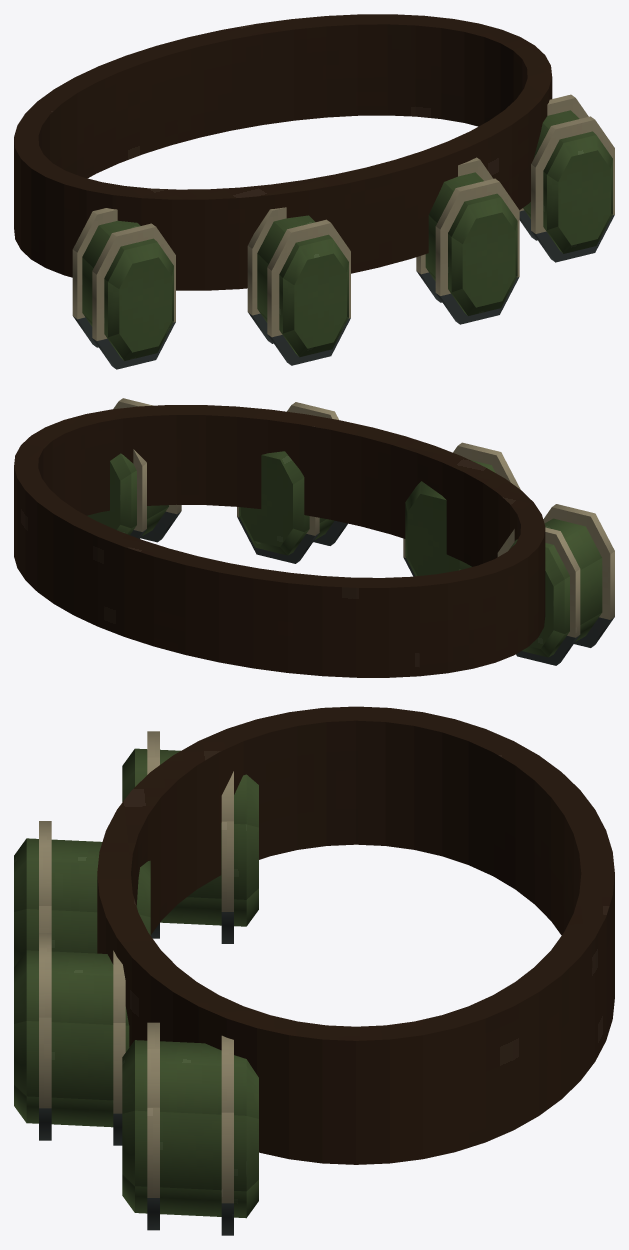
Rendered from item_artifactBelt4.glb.
The picture shows the model from 3 angles, top to bottom: view 1: azimuth 30°, elevation 25°; view 2: azimuth 150°, elevation 25°; view 3: azimuth 270°, elevation 25°; orthographic projection. The views are drawn at different scales.
Visible parts, largest first — view 1: WornLeatherBelt, Donor_station-container-flat_0, Donor_station-container-flat_0.001, Donor_station-container-flat_0.002, Donor_station-container-flat_0.003; view 2: WornLeatherBelt, Donor_station-container-flat_0, Donor_station-container-flat_0.002, Donor_station-container-flat_0.001, Donor_station-container-flat_0.003; view 3: WornLeatherBelt, Donor_station-container-flat_0.003, Donor_station-container-flat_0.002, Donor_station-container-flat_0.001, Donor_station-container-flat_0.
Part boxes in pixels (left/top/right/bottom): WornLeatherBelt: left=14, top=14, right=552, bottom=290; Donor_station-container-flat_0: left=72, top=208, right=175, bottom=369; Donor_station-container-flat_0.001: left=247, top=207, right=350, bottom=365; Donor_station-container-flat_0.002: left=416, top=157, right=519, bottom=324; Donor_station-container-flat_0.003: left=519, top=94, right=614, bottom=262; WornLeatherBelt: left=14, top=405, right=545, bottom=677; Donor_station-container-flat_0: left=497, top=504, right=614, bottom=665; Donor_station-container-flat_0.002: left=237, top=402, right=347, bottom=563; Donor_station-container-flat_0.001: left=403, top=442, right=520, bottom=576; Donor_station-container-flat_0.003: left=87, top=398, right=181, bottom=542; WornLeatherBelt: left=97, top=706, right=614, bottom=1164; Donor_station-container-flat_0.003: left=122, top=1022, right=258, bottom=1235; Donor_station-container-flat_0.002: left=14, top=933, right=129, bottom=1145; Donor_station-container-flat_0.001: left=14, top=821, right=150, bottom=966; Donor_station-container-flat_0: left=122, top=731, right=258, bottom=943.
Size of the model in its own units: 0.3927 by 0.105 by 0.2855.
Materials: 4 (4 with a texture image).
